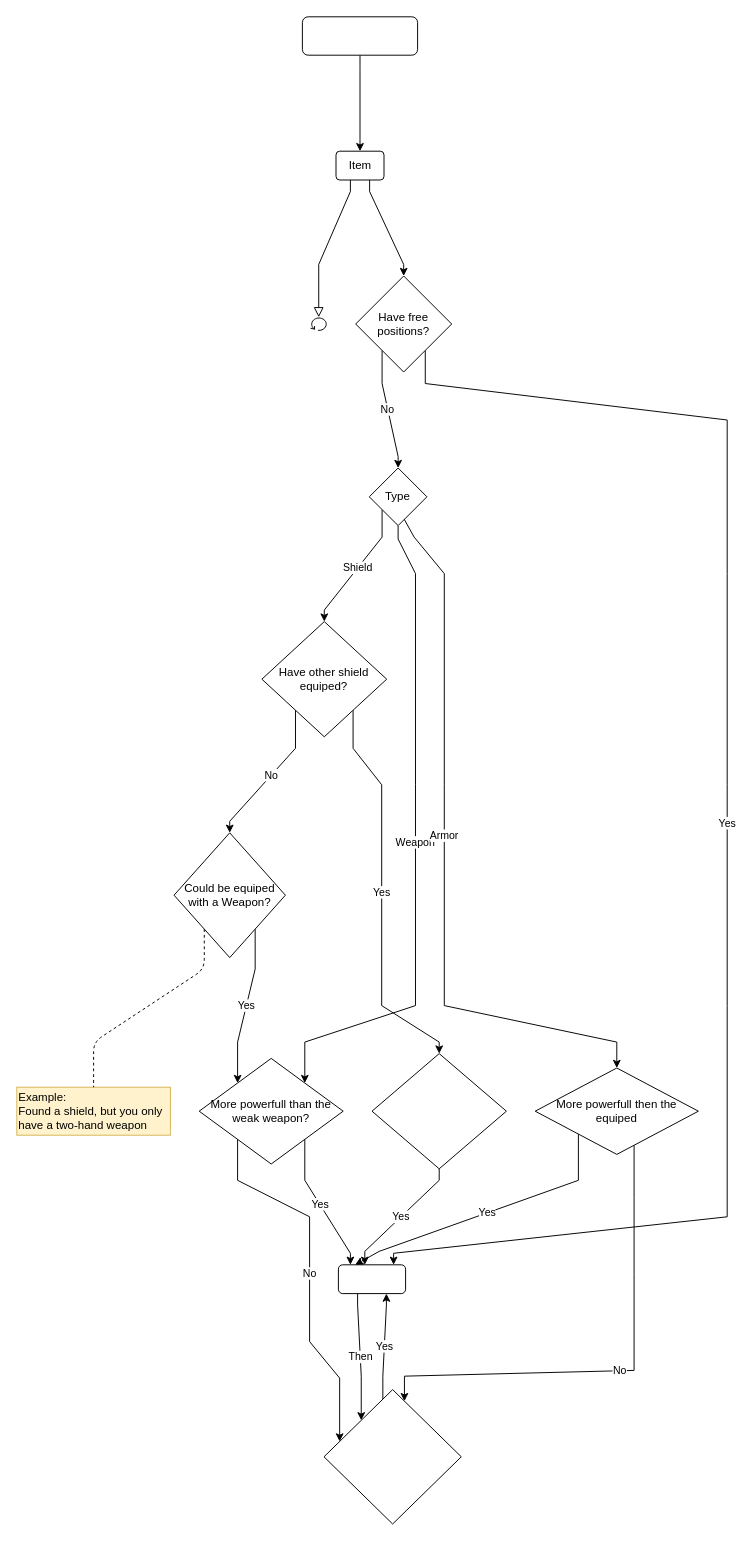
Some shapes in this 753 by 1541 pixel diagram are drawn without their labels. The shapes that lost their labels are listed below. From the top down, each one's box as (x1, y1, x2, y2) in pixels, then its label:
(301, 16, 418, 55): Found Items
(371, 1053, 506, 1169): More powerful then the weak shield?
(337, 1264, 406, 1294): Equip them
(323, 1389, 461, 1524): Best combination with inventory items?
